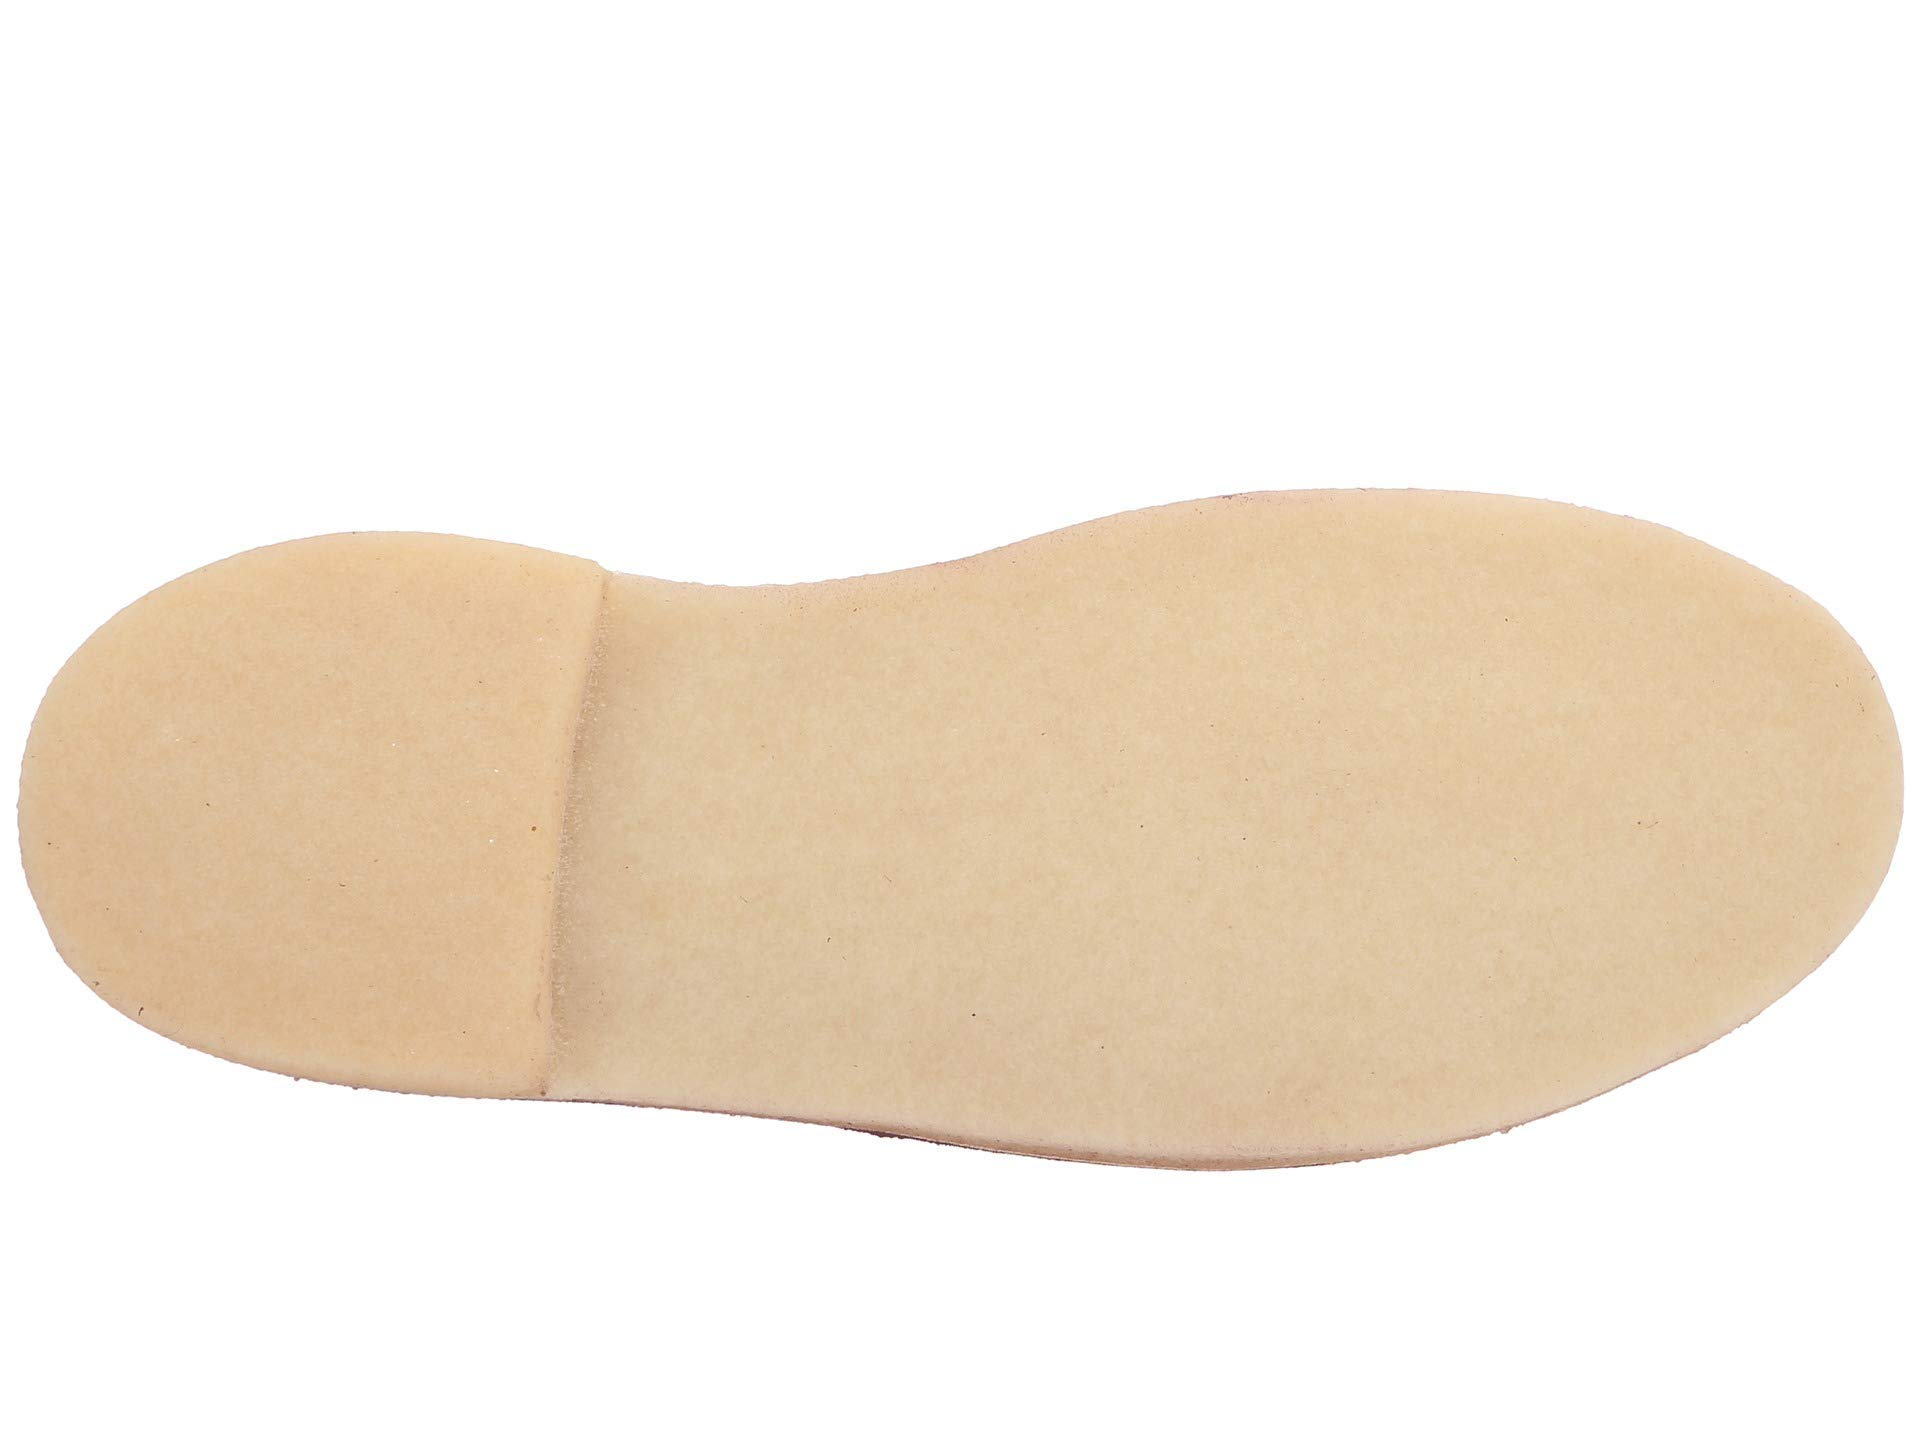line: (419, 522, 629, 1118)
